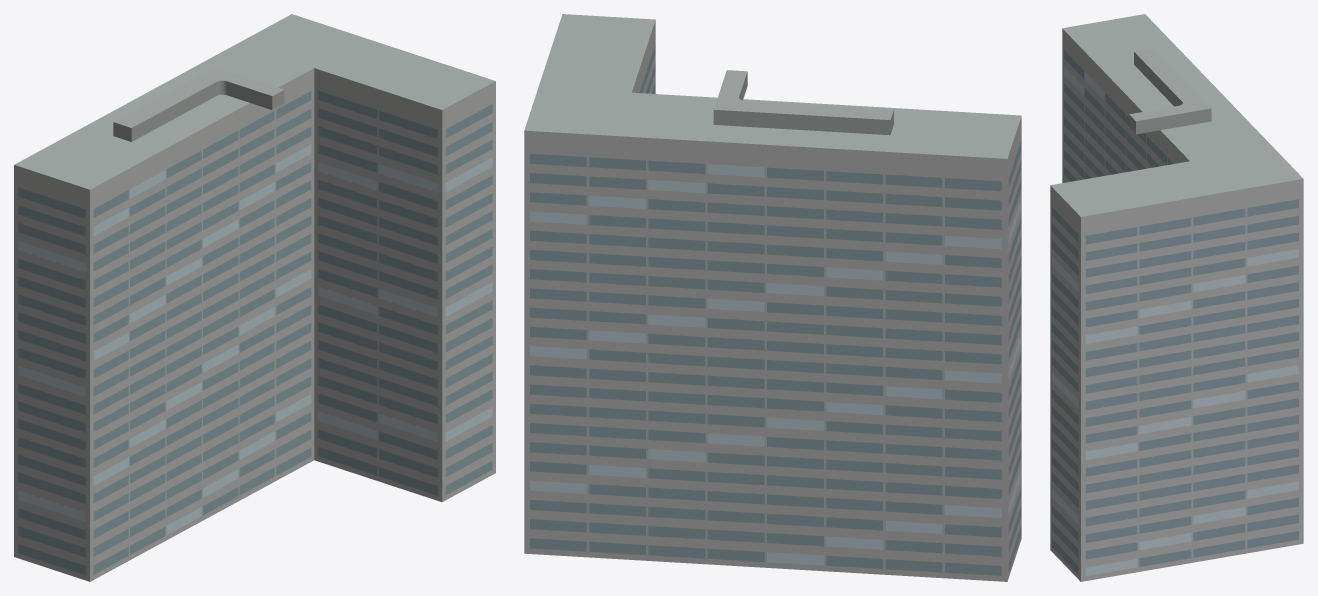
File: apt-a10027207.glb
3 renders of one model, left to right at view 1: azimuth 30°, elevation 25°; view 2: azimuth 150°, elevation 25°; view 3: azimuth 270°, elevation 25°, orthographic. The views are drawn at different scales.
Visible parts, largest first — view 1: apt-a10027207; view 2: apt-a10027207; view 3: apt-a10027207.
Part boxes in pixels (x1,y1,x2,y2): apt-a10027207: [14, 14, 495, 581]; apt-a10027207: [524, 14, 1021, 581]; apt-a10027207: [1050, 14, 1303, 581].
Bounding box in the file's own units: 80.06 × 69.5 × 42.2.
